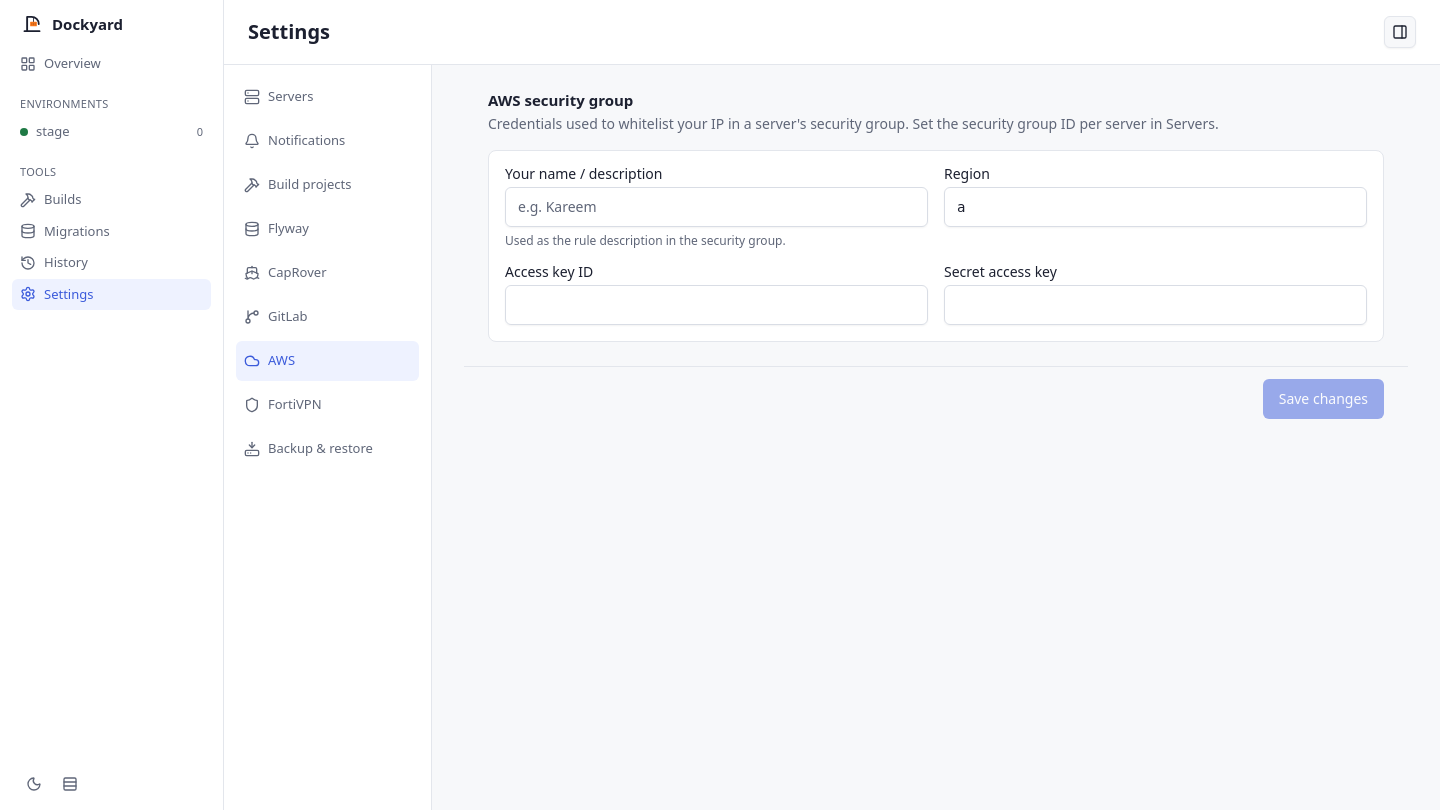
review fixes › keeps edits typed while a save is in flight
In the field labelled "Region": x=1156, y=206 [944,186,1367,226], type "b"
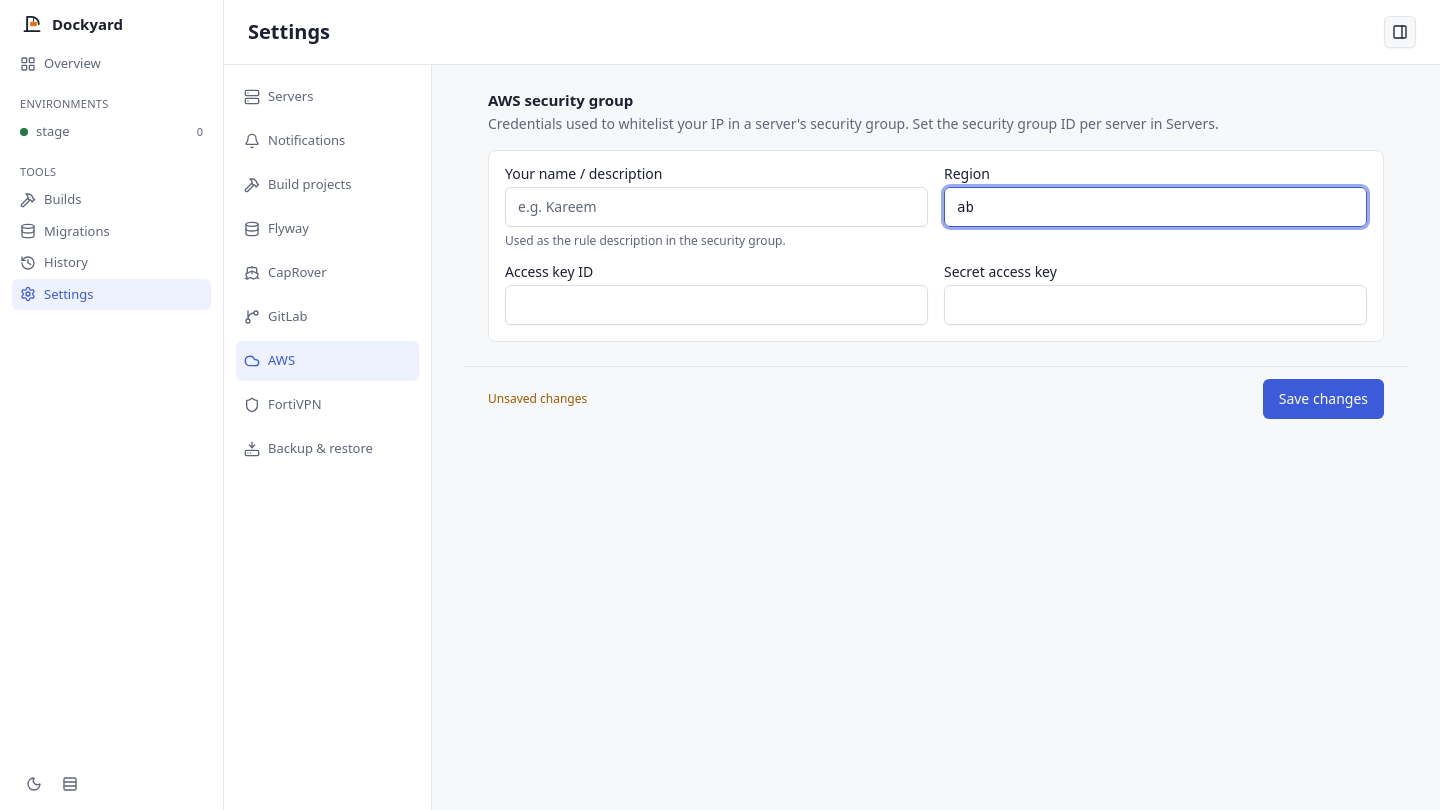
Click the button "Save changes": x=1323, y=398 [1263,378,1384,418]
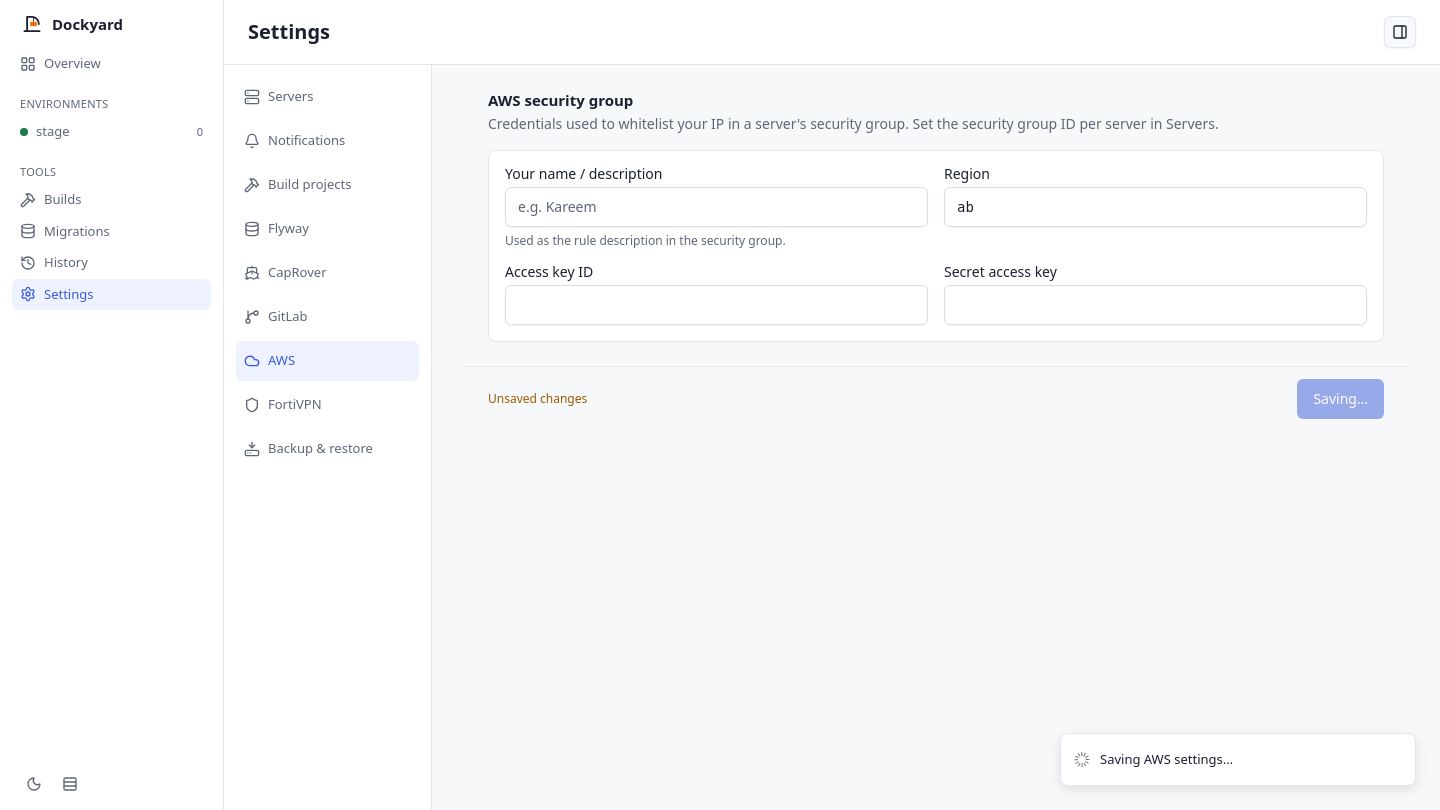
In the field labelled "Region": x=1156, y=206 [944,186,1367,226], type "c"
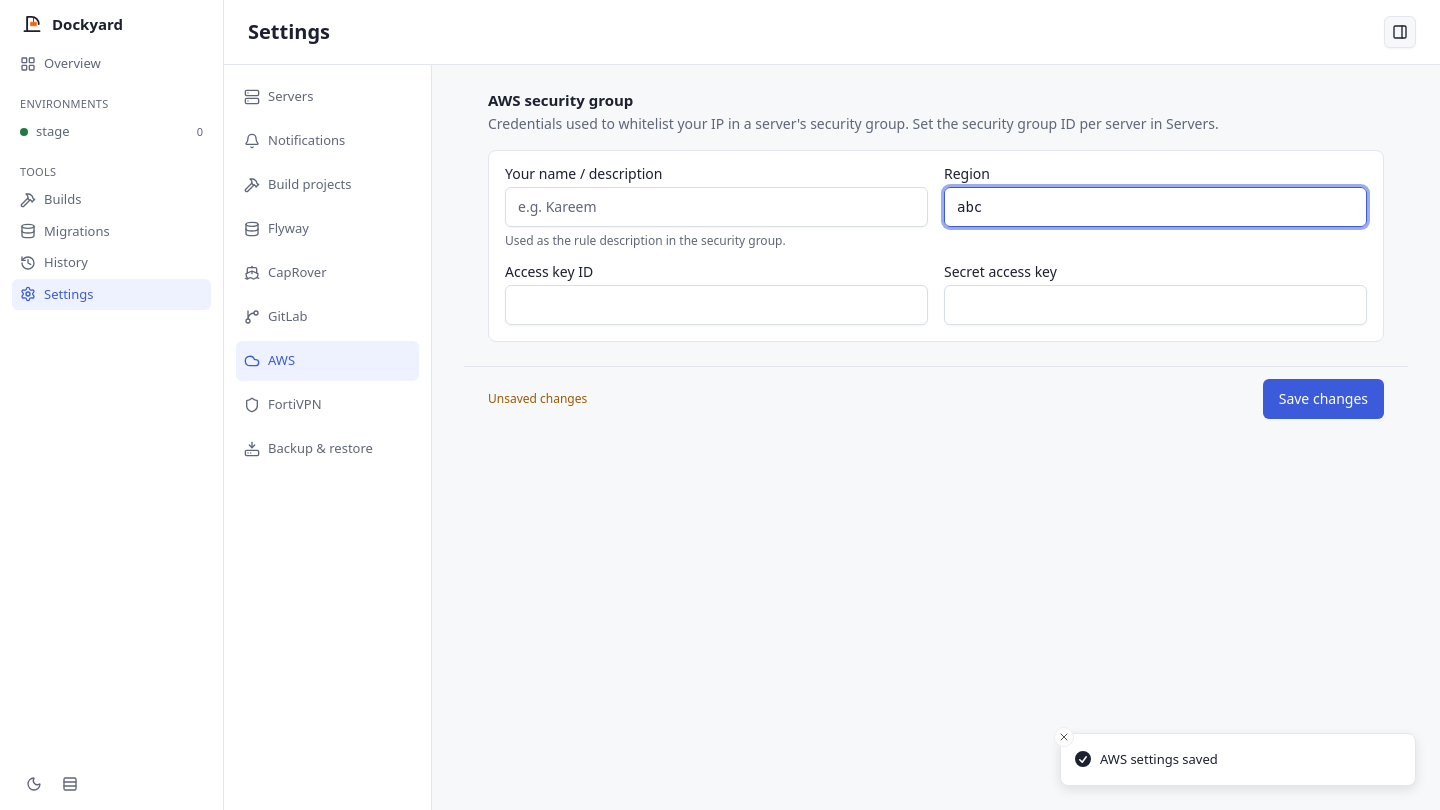
Result: the text "Unsaved changes" is shown at [488,390,587,406]
Result: the field labelled "Region" holds "abc" at [944,186,1367,226]
